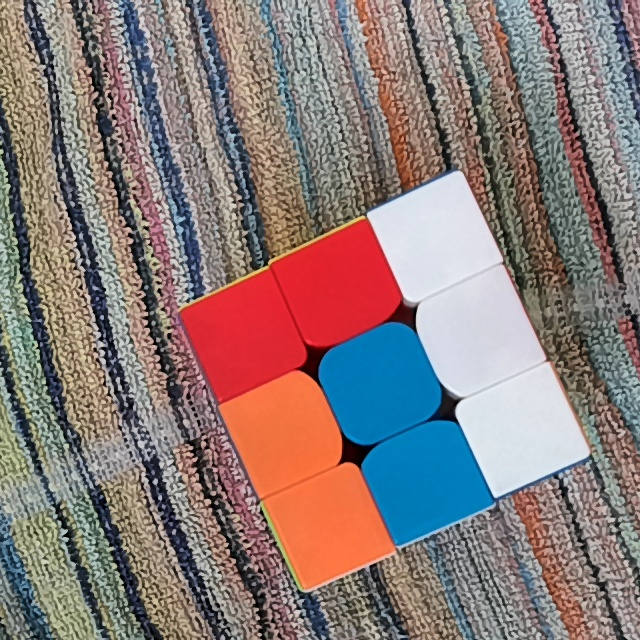tile: (442, 296, 517, 370), (389, 444, 464, 516), (483, 397, 558, 469), (299, 252, 372, 324), (295, 487, 364, 563), (398, 201, 470, 273), (346, 348, 419, 418), (207, 300, 276, 373), (250, 394, 319, 467)
